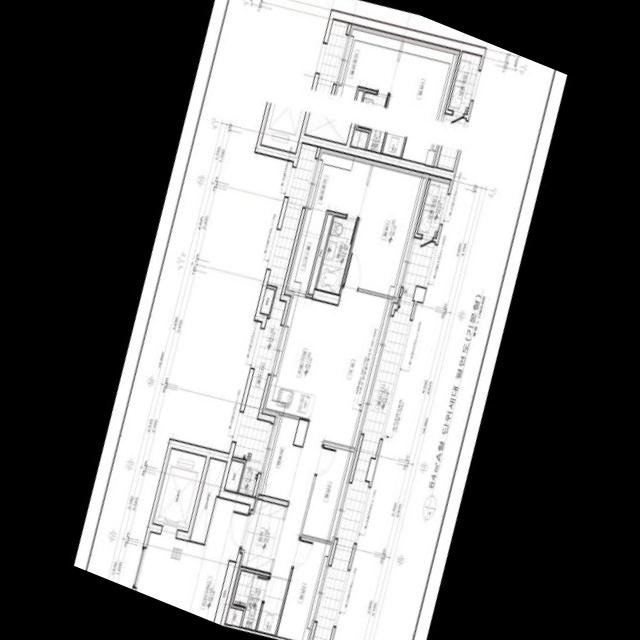background: (73, 0, 567, 640)
space_balconi: (313, 237, 435, 640), (233, 143, 317, 495)
space_bedroom: (343, 161, 429, 297), (276, 537, 333, 640), (302, 444, 356, 541)
space_dressroom: (285, 208, 325, 293)
space_elevator: (153, 448, 206, 531)
space_elevator_hall: (135, 496, 249, 622)
space_front: (239, 498, 286, 571)
space_kitchen: (262, 293, 338, 420)
space_living_room: (269, 287, 394, 582)
space_other: (308, 147, 372, 217), (256, 413, 302, 500), (190, 458, 226, 543), (308, 213, 332, 294), (214, 561, 235, 625), (224, 460, 243, 491), (260, 287, 274, 314), (225, 607, 243, 626), (434, 231, 437, 237)
space_outdoor_room: (417, 175, 450, 236)
space_toilet: (233, 570, 287, 634), (316, 216, 356, 293)
